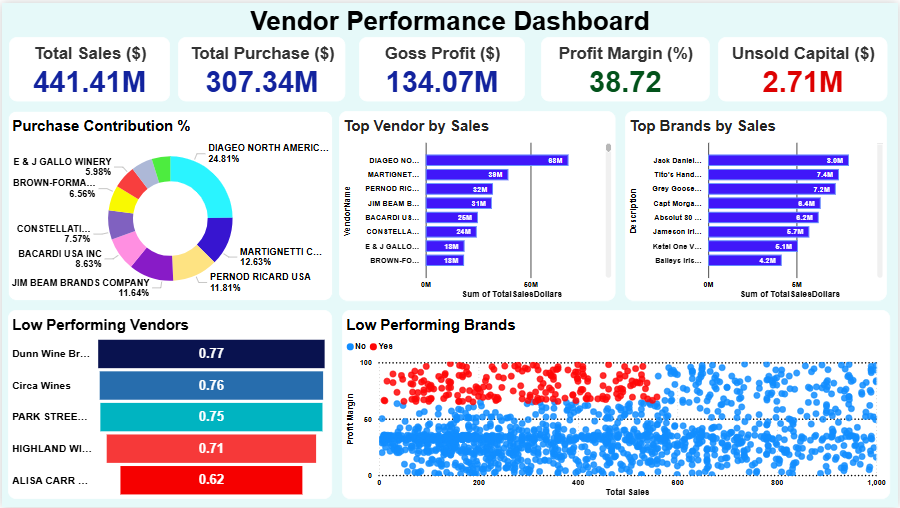

What the dashboard file says about the page in this screenshot:
{"tool":"powerbi","page":{"name":"Page 1","canvas":[1280,720],"ordinal":0},"visuals":[{"type":"textbox","box":[0,0,1280,47.5],"z":0},{"type":"card","title":"Total Sales ($)","fields":{"Values":["Sum(vendor_sales_summary.TotalSalesDollars)"]},"box":[8.8,47.5,228.8,78.8],"z":1000},{"type":"card","title":"Unsold Capital ($)","fields":{"Values":["Sum(vendor_sales_summary.UnsoldInventoryValue)"]},"box":[1022.5,47.5,242.5,78.8],"z":2000},{"type":"card","title":"Profit Margin (%)","fields":{"Values":["Avg(vendor_sales_summary.ProfitMargin)"]},"box":[768.8,47.5,241.2,78.8],"z":3000},{"type":"card","title":"Goss Profit ($)","fields":{"Values":["Sum(vendor_sales_summary.GrossProfit)"]},"box":[511.2,47.5,236.2,78.8],"z":4000},{"type":"card","title":"Total Purchase ($)","fields":{"Values":["Sum(vendor_sales_summary.TotalPurchaseDollars)"]},"box":[251.2,47.5,240,78.8],"z":5000},{"type":"donutChart","title":"Purchase Contribution %","fields":{"Category":["PurchaseContribution.VendorName"],"Y":["Sum(PurchaseContribution.PurchaseContribution%)"]},"box":[8.3,140,463.3,285],"z":6000},{"type":"barChart","title":"Top Vendor by Sales","fields":{"Y":["Sum(vendor_sales_summary.TotalSalesDollars)"],"Category":["vendor_sales_summary.VendorName"]},"box":[481.2,140,395,285],"z":7000},{"type":"barChart","title":"Top Brands by Sales","fields":{"Y":["Sum(vendor_sales_summary.TotalSalesDollars)"],"Category":["vendor_sales_summary.Description"]},"box":[890,140,375,285],"z":8000},{"type":"funnel","title":"Low Performing Vendors","fields":{"Category":["LowPerformingVendors.VendorName"],"Y":["Avg(LowPerformingVendors.AvgStockTurnOver)"]},"box":[8.3,438.3,463.3,270],"z":9000},{"type":"scatterChart","title":"Low Performing Brands","fields":{"Category":["BrandPerformance.Description"],"X":["Sum(BrandPerformance.TotalSales)"],"Y":["Sum(BrandPerformance.AverageProfitMargin)"],"Series":["BrandPerformance.TargetBrand"]},"box":[485,438.3,783.3,270],"z":10000}]}

Visuals, with their boxes in screenshot pixels (x1, y1, x2, y2), scaled from the page's 1280x720 canvas onto the 900x508 screenshot:
textbox: rect(0, 0, 899, 34)
"Total Sales ($)" card: rect(6, 34, 167, 89)
"Unsold Capital ($)" card: rect(719, 34, 889, 89)
"Profit Margin (%)" card: rect(541, 34, 710, 89)
"Goss Profit ($)" card: rect(359, 34, 526, 89)
"Total Purchase ($)" card: rect(177, 34, 345, 89)
"Purchase Contribution %" donutChart: rect(6, 99, 332, 300)
"Top Vendor by Sales" barChart: rect(338, 99, 616, 300)
"Top Brands by Sales" barChart: rect(626, 99, 889, 300)
"Low Performing Vendors" funnel: rect(6, 309, 332, 500)
"Low Performing Brands" scatterChart: rect(341, 309, 892, 500)
